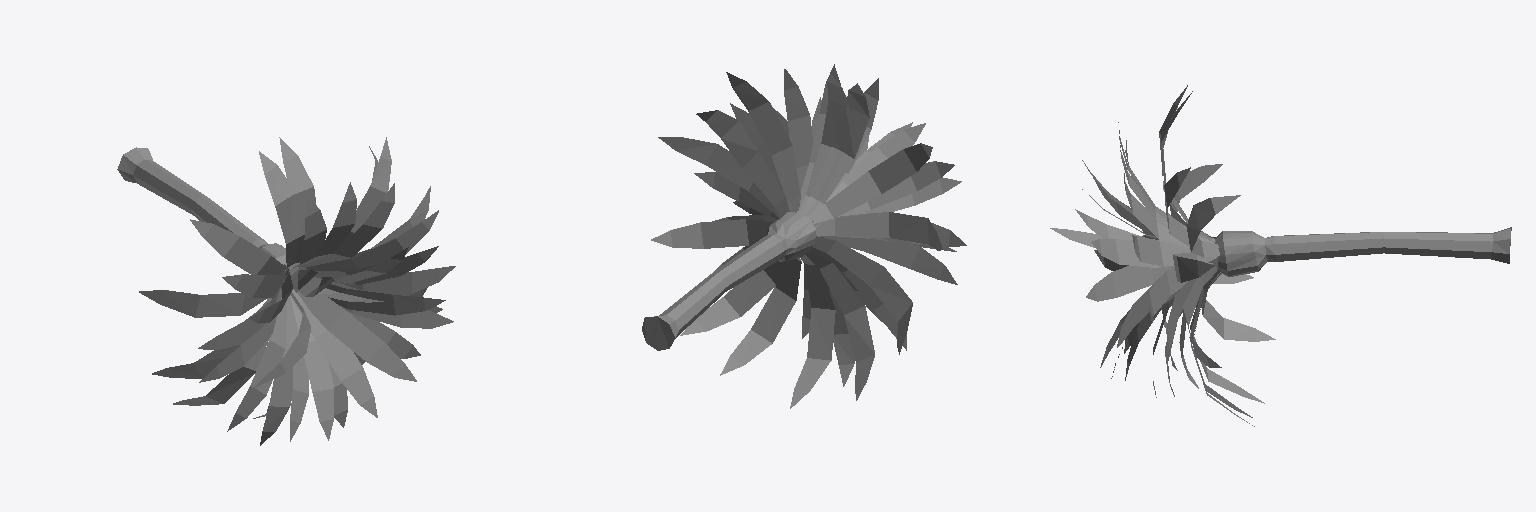
Rendered from Palm_Tree.obj.
The picture shows the model from 3 angles: view 1: azimuth 30°, elevation 25°; view 2: azimuth 150°, elevation 25°; view 3: azimuth 270°, elevation 25°; orthographic projection.
Parts seen in each view (by area): view 1: ENV_MP_Iraq_PalmTree_01; view 2: ENV_MP_Iraq_PalmTree_01; view 3: ENV_MP_Iraq_PalmTree_01.
Part boxes in pixels (x1,y1,x2,y2): ENV_MP_Iraq_PalmTree_01: (117, 137, 455, 445); ENV_MP_Iraq_PalmTree_01: (642, 64, 966, 408); ENV_MP_Iraq_PalmTree_01: (1050, 85, 1511, 426).
Size of the model in its own units: 80.89 by 81.82 by 111.